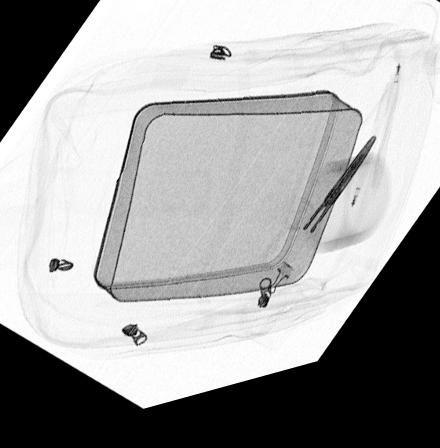Scissors: (255, 153, 380, 297)
